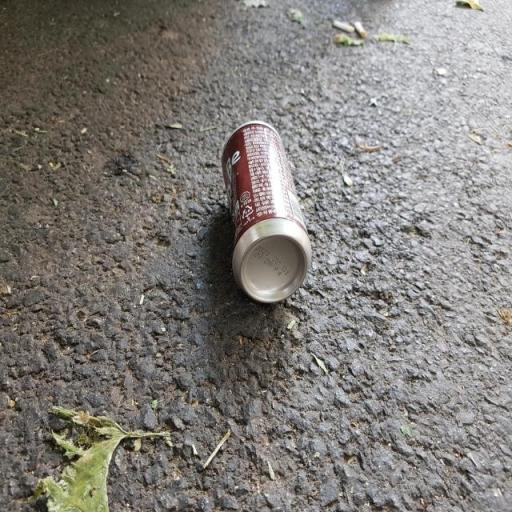metal: (210, 108, 318, 353)
